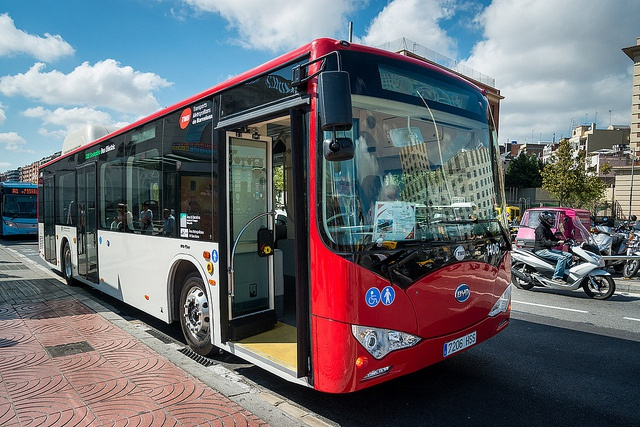non-vehicle: (508, 231, 615, 299), (593, 226, 628, 272), (619, 214, 640, 278)
